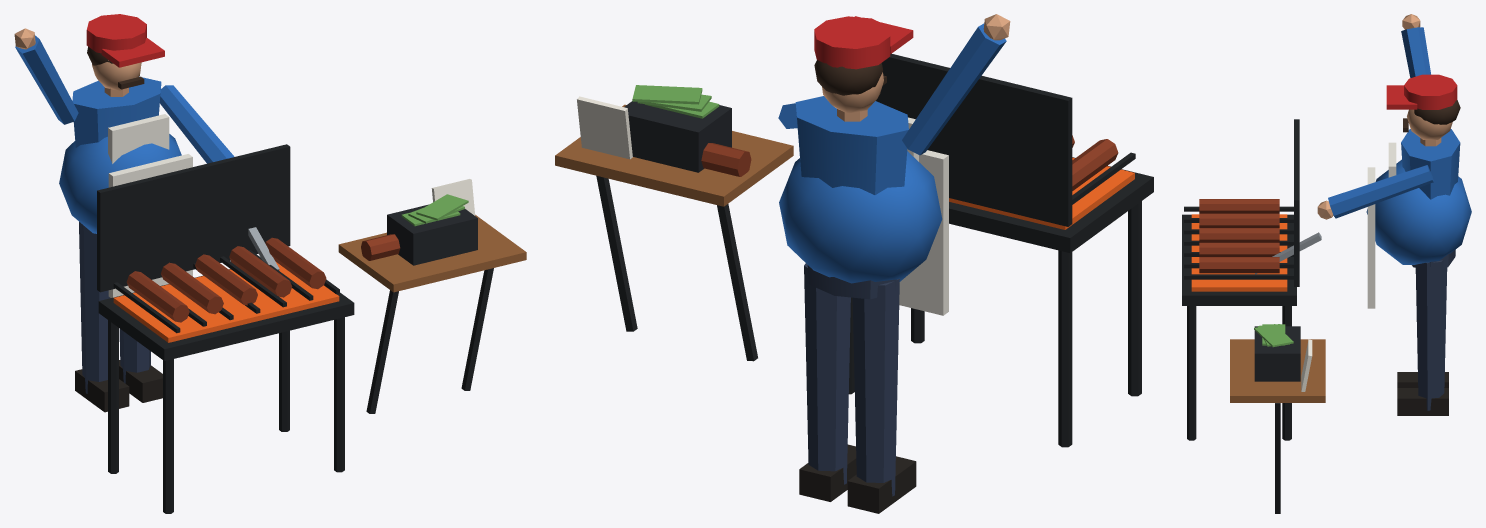
Rendered from puntero.fbx.
3 views of the same model, side by side, from view 1: azimuth 30°, elevation 25°; view 2: azimuth 150°, elevation 25°; view 3: azimuth 270°, elevation 25° (orthographic). The views are drawn at different scales.
Parts seen in each view (by area): view 1: puntero; view 2: puntero; view 3: puntero.
Boxes of the visible parts, x1,y1,x2,y2 form: puntero: [14, 14, 526, 513]; puntero: [555, 14, 1153, 513]; puntero: [1182, 14, 1471, 513].
Bounding box in the file's own units: 2.14 × 1.99 × 1.52.
